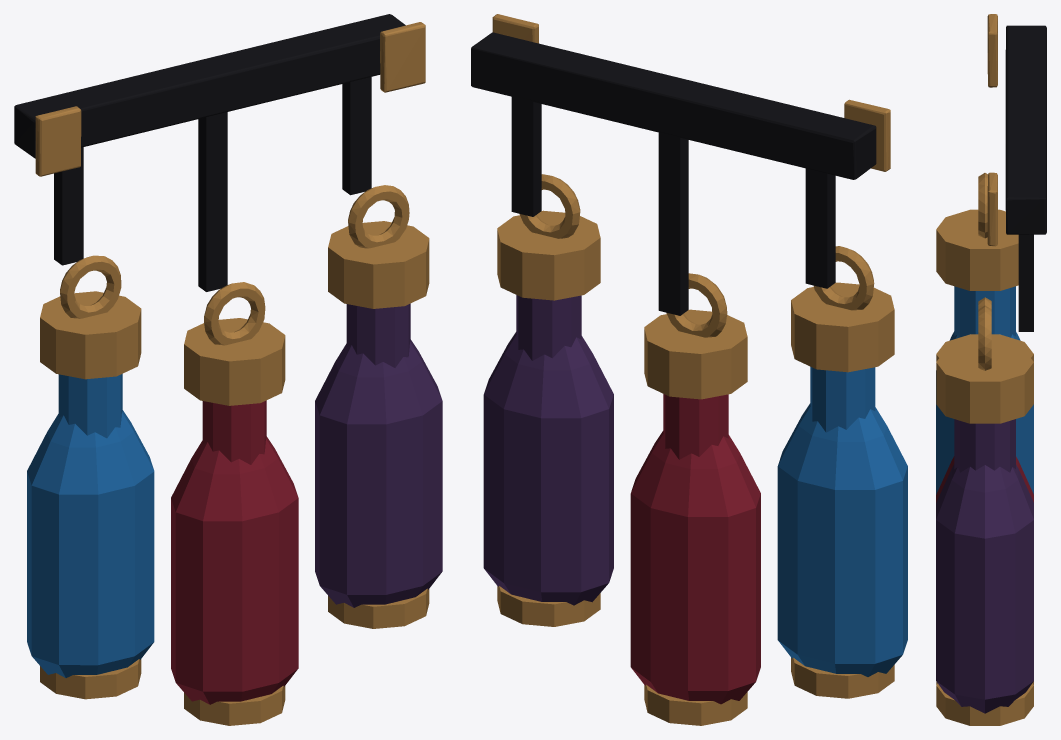
Rendered from malet_prop_vials.fbx.
3 renders of one model, left to right at view 1: azimuth 30°, elevation 25°; view 2: azimuth 150°, elevation 25°; view 3: azimuth 270°, elevation 25°, orthographic. The views are drawn at different scales.
Parts seen in each view (by area): view 1: MaletVials; view 2: MaletVials; view 3: MaletVials.
Boxes of the visible parts, x1=… form: MaletVials: x1=14, y1=14, x2=442, y2=725; MaletVials: x1=471, y1=14, x2=907, y2=725; MaletVials: x1=936, y1=14, x2=1046, y2=725.
Bounding box in the file's own units: 17.2 × 4.3 × 25.55.
1 material, 1 textured.
